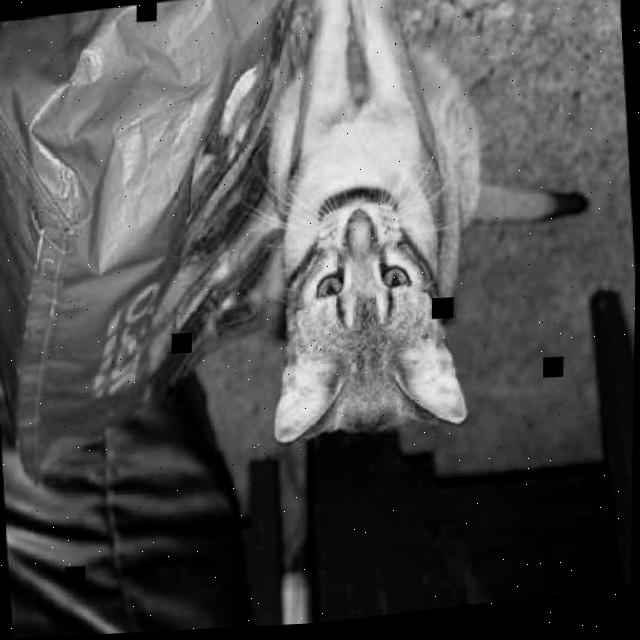Cat: (241, 0, 606, 453)
